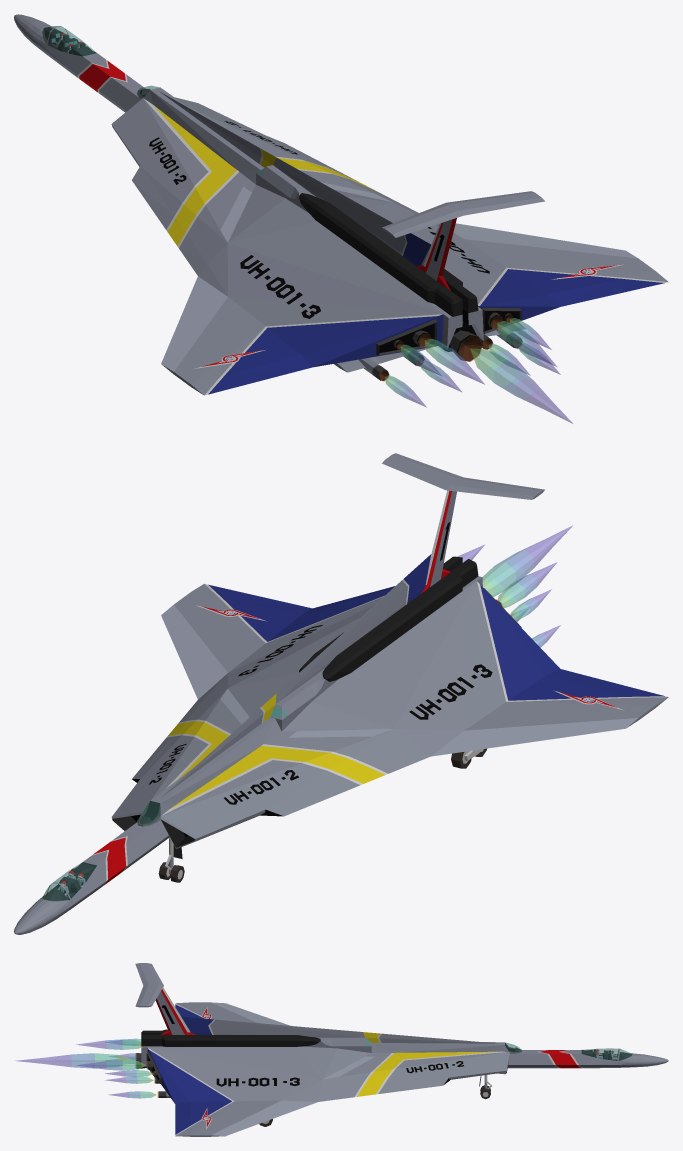
3 views of the same model, one above another, from view 1: azimuth 30°, elevation 25°; view 2: azimuth 150°, elevation 25°; view 3: azimuth 270°, elevation 25° (orthographic). The views are drawn at different scales.
Parts seen in each view (by area): view 1: ShapeIndexedFaceSet.059_ShapeIndexedFaceSet.060, ShapeIndexedFaceSet.035_ShapeIndexedFaceSet.036, ShapeIndexedFaceSet.046_ShapeIndexedFaceSet.047, ShapeIndexedFaceSet.062_ShapeIndexedFaceSet.063, ShapeIndexedFaceSet.061_ShapeIndexedFaceSet.062, ShapeIndexedFaceSet.051_ShapeIndexedFaceSet.052, ShapeIndexedFaceSet.064_ShapeIndexedFaceSet.065, ShapeIndexedFaceSet.054_ShapeIndexedFaceSet.055, ShapeIndexedFaceSet.029_ShapeIndexedFaceSet.030, ShapeIndexedFaceSet.040_ShapeIndexedFaceSet.041, ShapeIndexedFaceSet.026_ShapeIndexedFaceSet.027, ShapeIndexedFaceSet.041_ShapeIndexedFaceSet.042 (+21 smaller); view 2: ShapeIndexedFaceSet.059_ShapeIndexedFaceSet.060, ShapeIndexedFaceSet.035_ShapeIndexedFaceSet.036, ShapeIndexedFaceSet.046_ShapeIndexedFaceSet.047, ShapeIndexedFaceSet.062_ShapeIndexedFaceSet.063, ShapeIndexedFaceSet.064_ShapeIndexedFaceSet.065, ShapeIndexedFaceSet.061_ShapeIndexedFaceSet.062, ShapeIndexedFaceSet.054_ShapeIndexedFaceSet.055, ShapeIndexedFaceSet.051_ShapeIndexedFaceSet.052, ShapeIndexedFaceSet.026_ShapeIndexedFaceSet.027, ShapeIndexedFaceSet.029_ShapeIndexedFaceSet.030, ShapeIndexedFaceSet.065_ShapeIndexedFaceSet.066, ShapeIndexedFaceSet.071_ShapeIndexedFaceSet.072 (+15 smaller); view 3: ShapeIndexedFaceSet.059_ShapeIndexedFaceSet.060, ShapeIndexedFaceSet.062_ShapeIndexedFaceSet.063, ShapeIndexedFaceSet.035_ShapeIndexedFaceSet.036, ShapeIndexedFaceSet.046_ShapeIndexedFaceSet.047, ShapeIndexedFaceSet.051_ShapeIndexedFaceSet.052, ShapeIndexedFaceSet.061_ShapeIndexedFaceSet.062, ShapeIndexedFaceSet.054_ShapeIndexedFaceSet.055, ShapeIndexedFaceSet.026_ShapeIndexedFaceSet.027, ShapeIndexedFaceSet.064_ShapeIndexedFaceSet.065, ShapeIndexedFaceSet.009_ShapeIndexedFaceSet.010, ShapeIndexedFaceSet.039_ShapeIndexedFaceSet.040, ShapeIndexedFaceSet.040_ShapeIndexedFaceSet.041 (+16 smaller).
Boxes of the visible parts, box(x1,y1,x2,y2) form: ShapeIndexedFaceSet.059_ShapeIndexedFaceSet.060: box(198, 157, 505, 326); ShapeIndexedFaceSet.035_ShapeIndexedFaceSet.036: box(112, 97, 417, 275); ShapeIndexedFaceSet.046_ShapeIndexedFaceSet.047: box(162, 165, 483, 386); ShapeIndexedFaceSet.062_ShapeIndexedFaceSet.063: box(174, 239, 655, 384); ShapeIndexedFaceSet.061_ShapeIndexedFaceSet.062: box(267, 233, 559, 367); ShapeIndexedFaceSet.051_ShapeIndexedFaceSet.052: box(299, 193, 478, 316); ShapeIndexedFaceSet.064_ShapeIndexedFaceSet.065: box(161, 223, 638, 371); ShapeIndexedFaceSet.054_ShapeIndexedFaceSet.055: box(228, 167, 392, 242); ShapeIndexedFaceSet.029_ShapeIndexedFaceSet.030: box(143, 92, 261, 229); ShapeIndexedFaceSet.040_ShapeIndexedFaceSet.041: box(394, 323, 546, 398); ShapeIndexedFaceSet.026_ShapeIndexedFaceSet.027: box(143, 90, 372, 192); ShapeIndexedFaceSet.041_ShapeIndexedFaceSet.042: box(386, 318, 535, 392); ShapeIndexedFaceSet.059_ShapeIndexedFaceSet.060: box(198, 580, 505, 756); ShapeIndexedFaceSet.035_ShapeIndexedFaceSet.036: box(112, 689, 430, 837); ShapeIndexedFaceSet.046_ShapeIndexedFaceSet.047: box(228, 576, 655, 731); ShapeIndexedFaceSet.062_ShapeIndexedFaceSet.063: box(174, 592, 655, 730); ShapeIndexedFaceSet.064_ShapeIndexedFaceSet.065: box(161, 605, 637, 756); ShapeIndexedFaceSet.061_ShapeIndexedFaceSet.062: box(268, 554, 560, 700); ShapeIndexedFaceSet.054_ShapeIndexedFaceSet.055: box(228, 672, 392, 731); ShapeIndexedFaceSet.051_ShapeIndexedFaceSet.052: box(299, 556, 478, 681); ShapeIndexedFaceSet.026_ShapeIndexedFaceSet.027: box(152, 699, 281, 815); ShapeIndexedFaceSet.029_ShapeIndexedFaceSet.030: box(159, 708, 371, 815); ShapeIndexedFaceSet.065_ShapeIndexedFaceSet.066: box(224, 599, 622, 700); ShapeIndexedFaceSet.071_ShapeIndexedFaceSet.072: box(382, 453, 544, 499); ShapeIndexedFaceSet.059_ShapeIndexedFaceSet.060: box(148, 1047, 322, 1101); ShapeIndexedFaceSet.062_ShapeIndexedFaceSet.063: box(190, 1002, 364, 1135); ShapeIndexedFaceSet.035_ShapeIndexedFaceSet.036: box(318, 1052, 508, 1101); ShapeIndexedFaceSet.046_ShapeIndexedFaceSet.047: box(141, 1037, 371, 1136); ShapeIndexedFaceSet.051_ShapeIndexedFaceSet.052: box(141, 1029, 320, 1046); ShapeIndexedFaceSet.061_ShapeIndexedFaceSet.062: box(149, 1050, 231, 1103); ShapeIndexedFaceSet.054_ShapeIndexedFaceSet.055: box(297, 1039, 371, 1078); ShapeIndexedFaceSet.026_ShapeIndexedFaceSet.027: box(339, 1033, 506, 1076); ShapeIndexedFaceSet.064_ShapeIndexedFaceSet.065: box(211, 1002, 317, 1135); ShapeIndexedFaceSet.009_ShapeIndexedFaceSet.010: box(166, 1048, 668, 1097); ShapeIndexedFaceSet.039_ShapeIndexedFaceSet.040: box(15, 1039, 129, 1097); ShapeIndexedFaceSet.040_ShapeIndexedFaceSet.041: box(71, 1038, 140, 1098).
Bounding box in the file's own units: 236 × 93.11 × 492.
